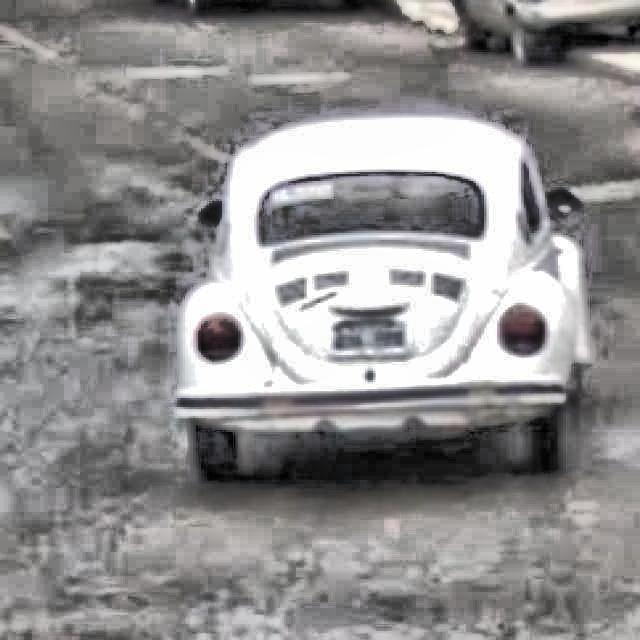carro: (176, 124, 588, 482)
